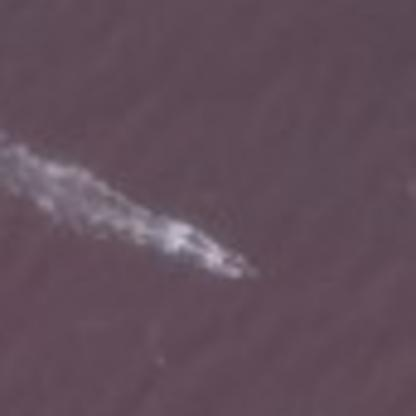ship: (194, 236, 265, 290)
